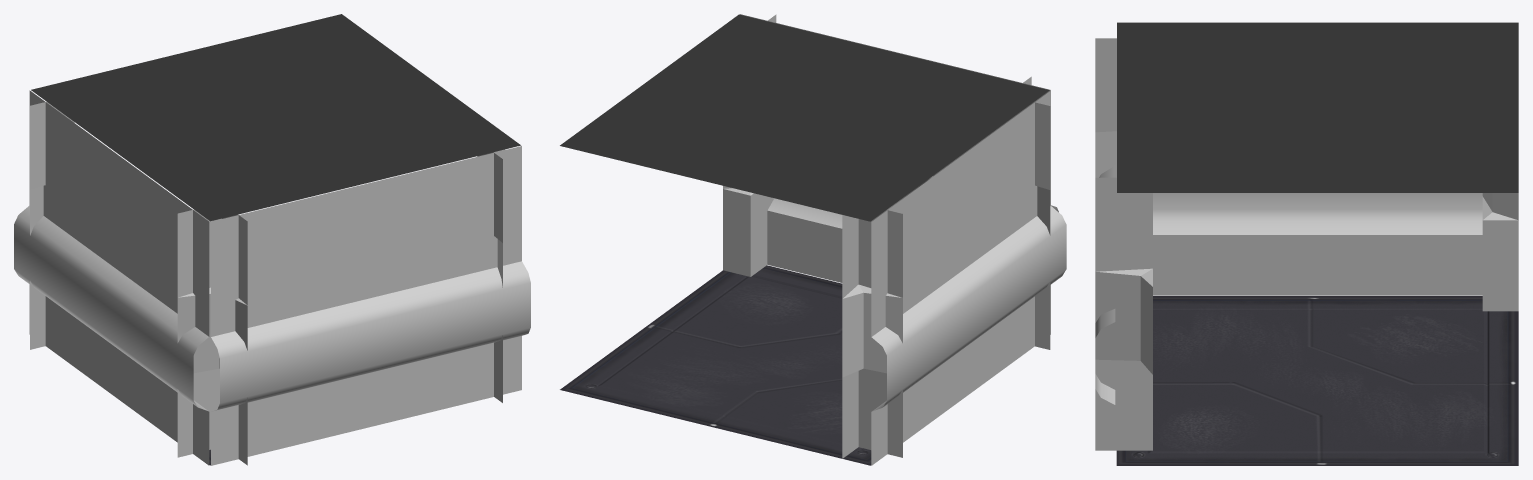
Rendered from chamberOpenWalledCornerIn.fbx.
The picture shows the model from 3 angles, left to right: view 1: azimuth 30°, elevation 25°; view 2: azimuth 150°, elevation 25°; view 3: azimuth 270°, elevation 25°; orthographic projection. The views are drawn at different scales.
Visible parts, largest first — view 1: int_entrance.002, int_ceiling; view 2: int_entrance.002, int_ceiling, int_entrance.000; view 3: int_ceiling, int_entrance.000, int_entrance.002.
Part boxes in pixels (box(x1,y1,x2,y2)): int_entrance.002: box(14, 90, 530, 465); int_ceiling: box(31, 14, 520, 221); int_entrance.002: box(723, 14, 1066, 465); int_ceiling: box(560, 14, 1049, 221); int_entrance.000: box(560, 265, 871, 465); int_ceiling: box(1117, 23, 1518, 192); int_entrance.000: box(1116, 296, 1518, 465); int_entrance.002: box(1095, 22, 1518, 450).
Size of the model in its own units: 4.21 by 3.02 by 4.21.
